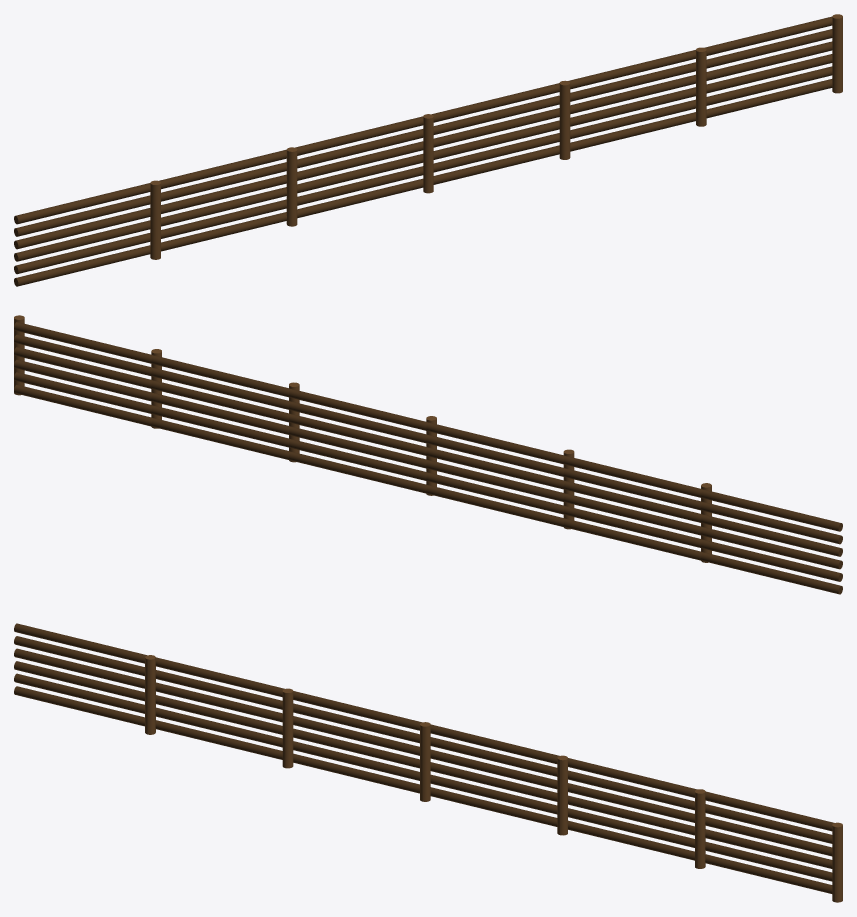
Rendered from RoadFence.fbx.
3 renders of one model, top to bottom at view 1: azimuth 30°, elevation 25°; view 2: azimuth 150°, elevation 25°; view 3: azimuth 330°, elevation 25°, orthographic.
Visible parts, largest first — view 1: Cylinder.005, Cylinder.002, Cylinder.003, Cylinder.004, Cylinder, Cylinder.001, Cylinder.035, Cylinder.023, Cylinder.030, Cylinder.059, Cylinder.019, Cylinder.021 (+30 smaller); view 2: Cylinder.002, Cylinder.005, Cylinder, Cylinder.004, Cylinder.001, Cylinder.003, Cylinder.006, Cylinder.007, Cylinder.044, Cylinder.023, Cylinder.034, Cylinder.008 (+24 smaller); view 3: Cylinder.005, Cylinder.001, Cylinder.003, Cylinder, Cylinder.002, Cylinder.004, Cylinder.035, Cylinder.059, Cylinder.031, Cylinder.032, Cylinder.034, Cylinder.058 (+30 smaller).
Boxes of the visible parts, <box> form: Cylinder.005: <box>14,183,150,224</box>; Cylinder.002: <box>14,220,150,261</box>; Cylinder.003: <box>14,208,150,249</box>; Cylinder.004: <box>14,195,150,236</box>; Cylinder: <box>14,245,150,286</box>; Cylinder.001: <box>14,233,150,274</box>; Cylinder.035: <box>431,83,559,122</box>; Cylinder.023: <box>295,116,423,155</box>; Cylinder.030: <box>433,145,559,184</box>; Cylinder.059: <box>704,16,832,55</box>; Cylinder.019: <box>297,166,423,205</box>; Cylinder.021: <box>297,141,423,180</box>; Cylinder.002: <box>701,527,842,569</box>; Cylinder.005: <box>701,489,842,531</box>; Cylinder: <box>701,552,842,594</box>; Cylinder.004: <box>701,502,842,544</box>; Cylinder.001: <box>701,540,842,581</box>; Cylinder.003: <box>701,515,842,556</box>; Cylinder.006: <box>563,519,703,560</box>; Cylinder.007: <box>563,506,703,548</box>; Cylinder.044: <box>151,393,290,434</box>; Cylinder.023: <box>426,422,565,464</box>; Cylinder.034: <box>289,401,428,443</box>; Cylinder.008: <box>563,494,703,535</box>; Cylinder.005: <box>14,623,146,663</box>; Cylinder.001: <box>14,673,144,713</box>; Cylinder.003: <box>14,648,144,688</box>; Cylinder: <box>14,686,144,726</box>; Cylinder.002: <box>14,661,144,701</box>; Cylinder.004: <box>14,636,144,676</box>; Cylinder.035: <box>430,724,559,763</box>; Cylinder.059: <box>705,791,834,831</box>; Cylinder.031: <box>430,774,557,814</box>; Cylinder.032: <box>430,762,557,801</box>; Cylinder.034: <box>430,737,557,776</box>; Cylinder.058: <box>705,804,832,843</box>.
Size of the model in its own units: 555 by 48.18 by 9.35.
